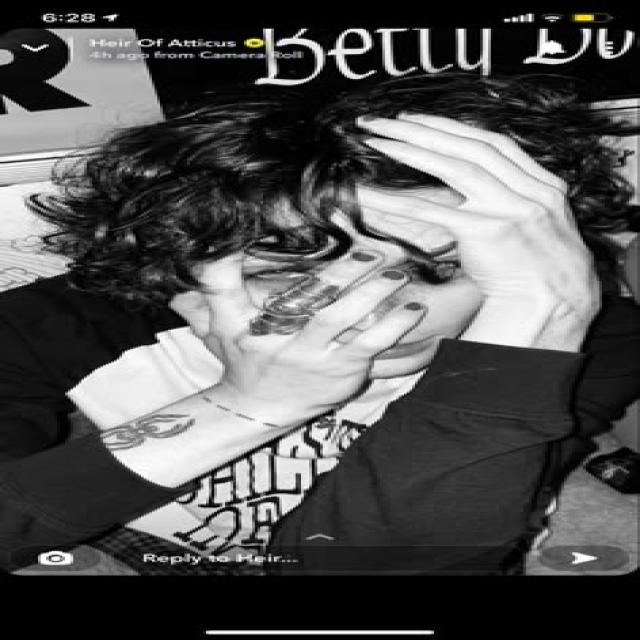7_mano_rostro: (176, 114, 603, 411)
